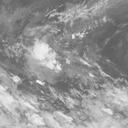cyclone: (27, 38, 67, 81)
